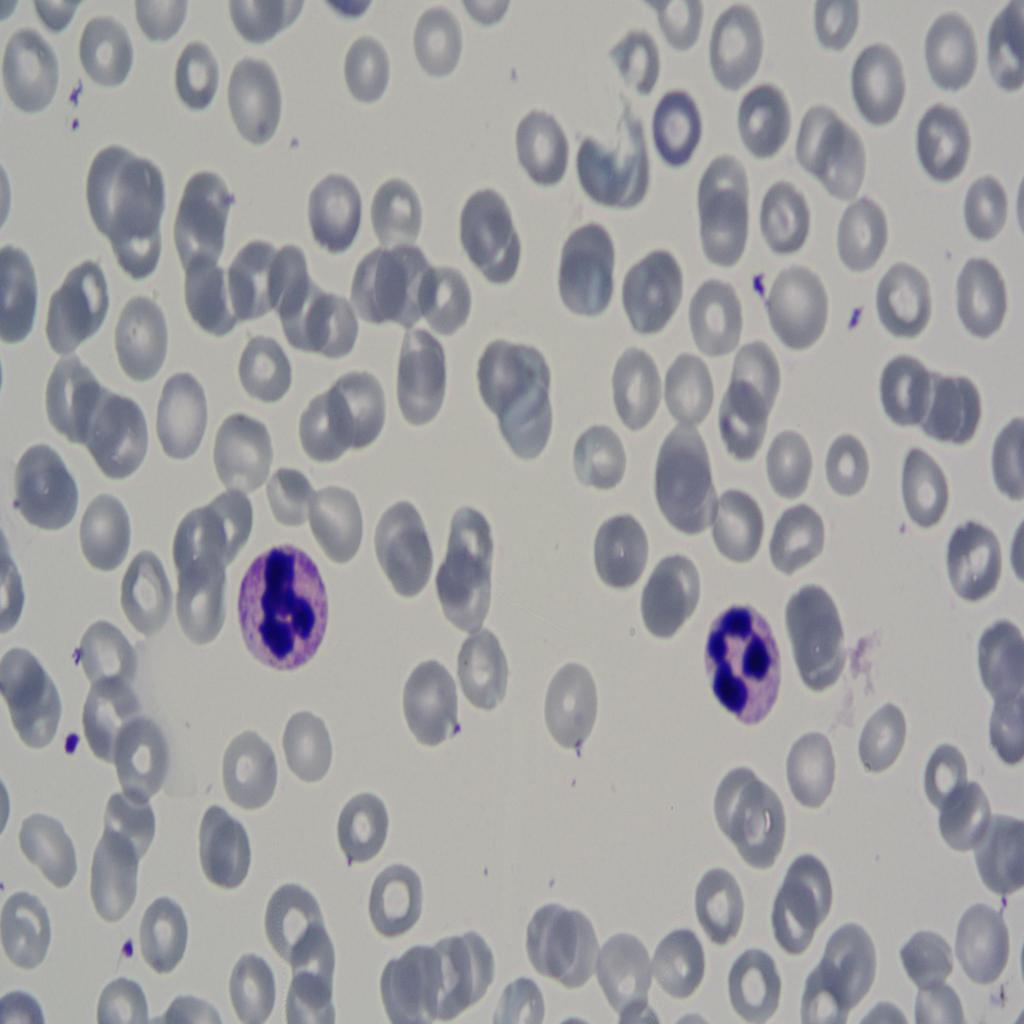Neutrofil: (224, 536, 338, 696), (694, 588, 788, 734)
Platelet: (114, 924, 150, 976), (57, 725, 85, 763), (748, 268, 776, 303), (840, 298, 865, 327)
